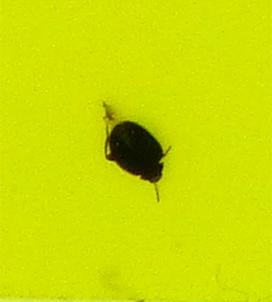Coleoptera: (100, 100, 172, 202)
